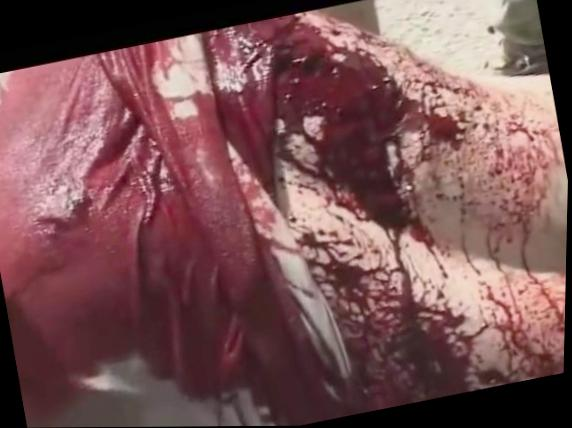Fire: (0, 13, 569, 426)
